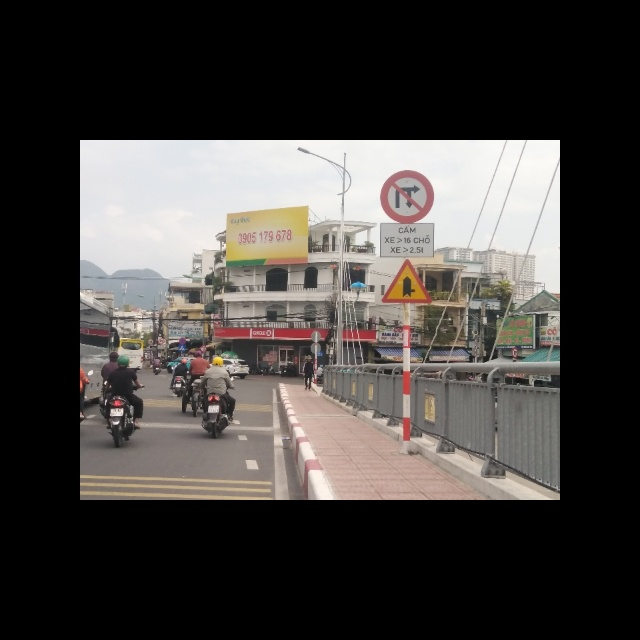Cấm quay đầu và rẽ phải: (378, 169, 435, 223)
Giao nhau với đường không ưu tiên: (381, 257, 432, 305)
